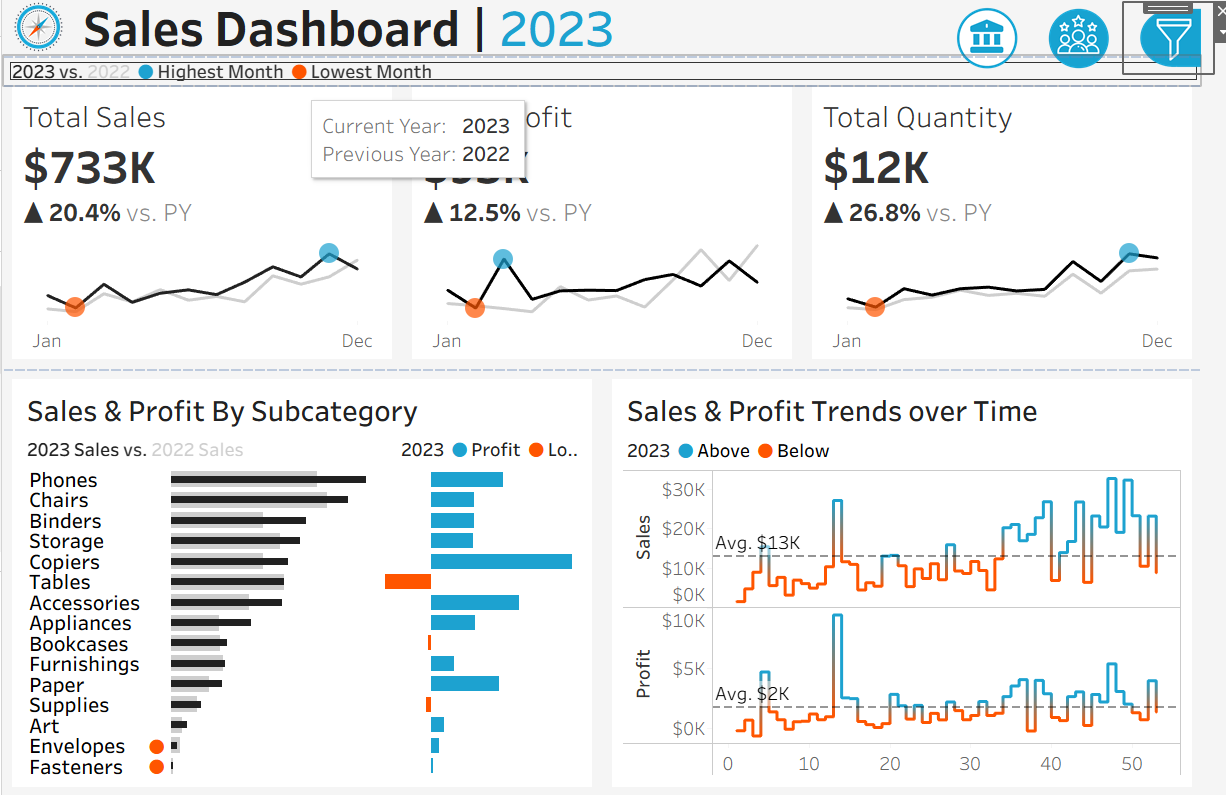

The dashboard page shown, as its layout file describes it:
{"tool":"tableau","page":{"name":"Sales Dashboard","canvas":[1200,800],"ordinal":1},"visuals":[{"type":"image","param":"Image/Icon - Logo.png","box":[0,0,73,59]},{"type":"text","box":[73,0,820,59]},{"type":"dashboard-object","box":[940,6,91,70]},{"type":"dashboard-object","box":[1031,6,91,70]},{"type":"blank","box":[952,10,237,86]},{"type":"worksheet","title":"Legend KPI","mark":"Automatic","box":[0,59,1200,29]},{"type":"worksheet","title":"KPI Sales","mark":"Automatic","rows":["Calculation_721701895347843083"],"cols":["Order Date"],"box":[0,88,400,284]},{"type":"worksheet","title":"KPI Profit","mark":"Automatic","rows":["Min/Max Sales (copy)_237846410425847814"],"cols":["Order Date"],"box":[400,88,400,284]},{"type":"worksheet","title":"KPI Quantity","mark":"Automatic","rows":["Min/Max Sales (copy) (copy)_237846410425856007"],"cols":["Order Date"],"box":[800,88,400,284]},{"type":"text","box":[952,96,237,37]},{"type":"parameter","param":"[Parameters].[Parameter 1]","box":[952,133,237,55]},{"type":"text","box":[952,188,237,32]},{"type":"filter","title":"KPI Sales","param":"[federated.1kpxa041aiai2y1cl4pui1t4eju9].[none:Category:nk]","box":[952,220,237,57]},{"type":"filter","title":"KPI Sales","param":"[federated.1kpxa041aiai2y1cl4pui1t4eju9].[none:Sub-Category:nk]","box":[952,277,237,57]},{"type":"blank","box":[952,334,237,60]},{"type":"text","box":[17,389,566,47]},{"type":"text","box":[617,389,566,47]},{"type":"text","box":[952,394,237,32]},{"type":"filter","title":"KPI Sales","param":"[federated.1kpxa041aiai2y1cl4pui1t4eju9].[none:Region:nk]","box":[952,426,237,57]},{"type":"worksheet","title":"Legend Subcategory","mark":"Automatic","box":[17,436,374,32]},{"type":"text","box":[391,436,192,32]},{"type":"text","box":[617,436,566,33]},{"type":"worksheet","title":"Subcategory Comparison","mark":"Bar","rows":["Sub-Category","Calculation_2435040078806671369"],"cols":["CY Sales (copy)_721701895335804930","Calculation_721701895334993921","CY Sales (copy)_237846410424180736"],"box":[17,468,566,315]},{"type":"worksheet","title":"Weekly Trends","mark":"Automatic","rows":["Calculation_721701895334993921","CY Sales (copy)_237846410424180736"],"cols":["Order Date"],"box":[617,469,566,314]},{"type":"filter","title":"KPI Sales","param":"[federated.1kpxa041aiai2y1cl4pui1t4eju9].[none:State:nk]","box":[952,483,237,57]},{"type":"filter","title":"KPI Sales","param":"[federated.1kpxa041aiai2y1cl4pui1t4eju9].[none:City:nk]","box":[952,540,237,57]}]}

Visuals, with their boxes in screenshot pixels (x1, y1, x2, y2), scaled from the page's 1200x800 canvas onto the 1226x795 screenshot:
image: select_region(0, 0, 75, 59)
text: select_region(75, 0, 912, 59)
dashboard-object: select_region(960, 6, 1053, 76)
dashboard-object: select_region(1053, 6, 1146, 76)
blank: select_region(973, 10, 1215, 95)
"Legend KPI" worksheet: select_region(0, 59, 1225, 87)
"KPI Sales" worksheet: select_region(0, 87, 409, 370)
"KPI Profit" worksheet: select_region(409, 87, 817, 370)
"KPI Quantity" worksheet: select_region(817, 87, 1225, 370)
text: select_region(973, 95, 1215, 132)
parameter: select_region(973, 132, 1215, 187)
text: select_region(973, 187, 1215, 219)
"KPI Sales" filter: select_region(973, 219, 1215, 275)
"KPI Sales" filter: select_region(973, 275, 1215, 332)
blank: select_region(973, 332, 1215, 392)
text: select_region(17, 387, 596, 433)
text: select_region(630, 387, 1209, 433)
text: select_region(973, 392, 1215, 423)
"KPI Sales" filter: select_region(973, 423, 1215, 480)
"Legend Subcategory" worksheet: select_region(17, 433, 399, 465)
text: select_region(399, 433, 596, 465)
text: select_region(630, 433, 1209, 466)
"Subcategory Comparison" worksheet (Bar marks): select_region(17, 465, 596, 778)
"Weekly Trends" worksheet: select_region(630, 466, 1209, 778)
"KPI Sales" filter: select_region(973, 480, 1215, 537)
"KPI Sales" filter: select_region(973, 537, 1215, 593)
